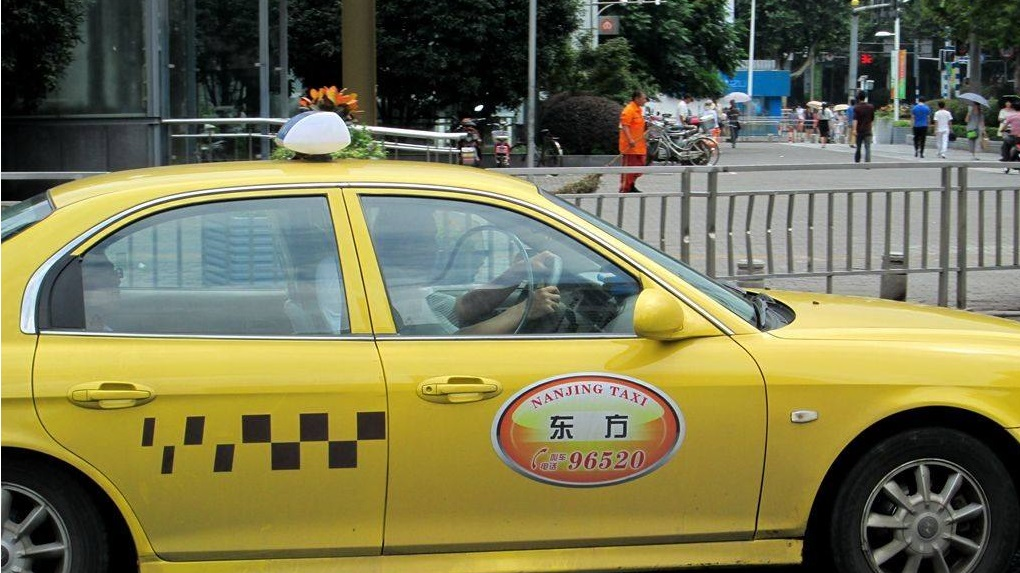taxi: (3, 111, 1020, 573)
